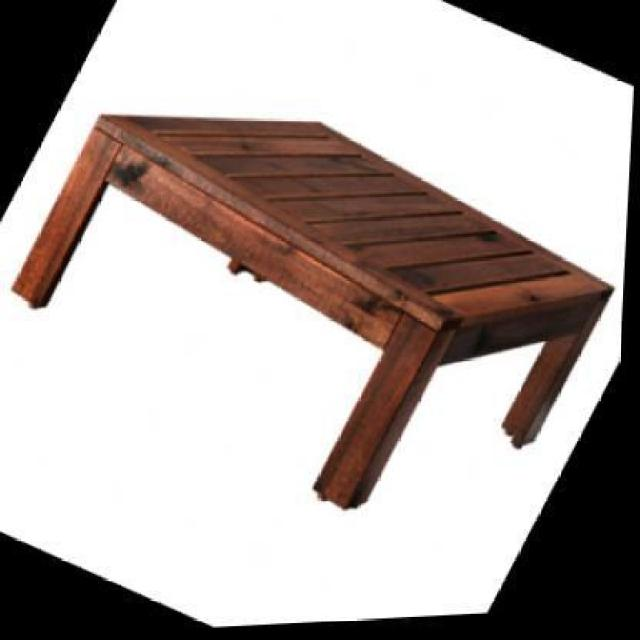tables: (9, 111, 614, 509)
